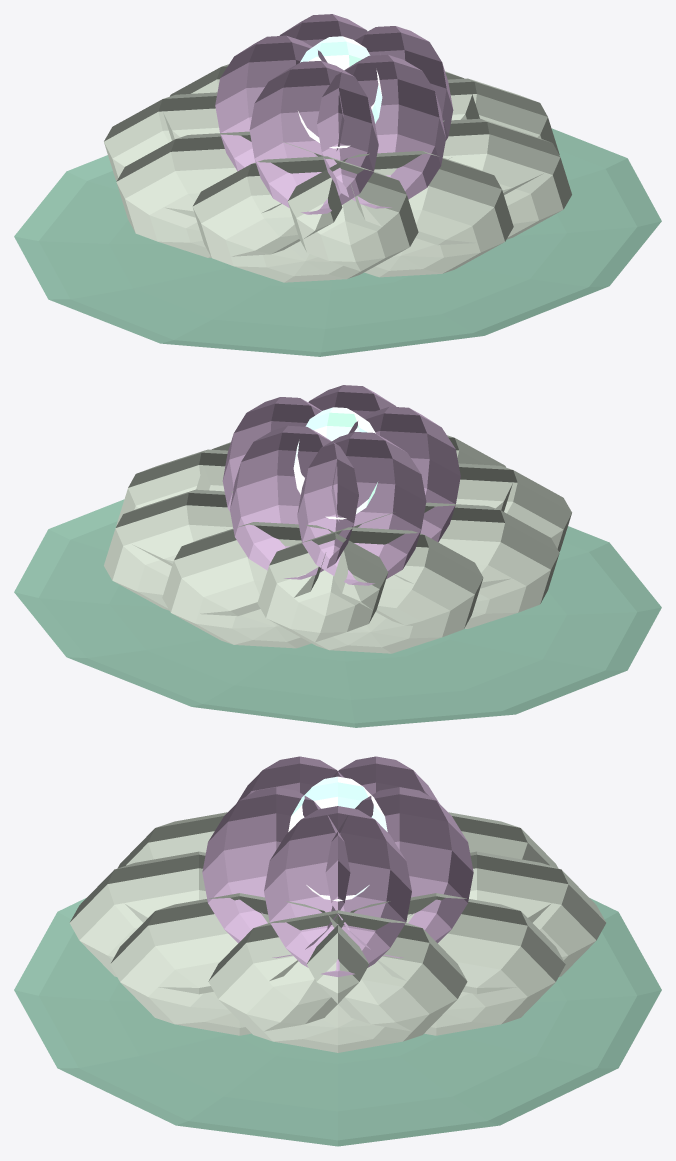
Rendered from runestone-conservatory-luminous-moon-lotus__110.glb.
The picture shows the model from 3 angles, top to bottom: view 1: azimuth 30°, elevation 25°; view 2: azimuth 150°, elevation 25°; view 3: azimuth 270°, elevation 25°; orthographic projection. The views are drawn at different scales.
Visible parts, largest first — view 1: runestone-conservatory-moon-lotus; view 2: runestone-conservatory-moon-lotus; view 3: runestone-conservatory-moon-lotus.
Boxes of the visible parts, x1,y1,x2,y2 form: runestone-conservatory-moon-lotus: (14, 14, 661, 356); runestone-conservatory-moon-lotus: (14, 385, 661, 727); runestone-conservatory-moon-lotus: (14, 756, 661, 1146).
Size of the model in its own units: 0.8 by 0.268 by 0.7.
